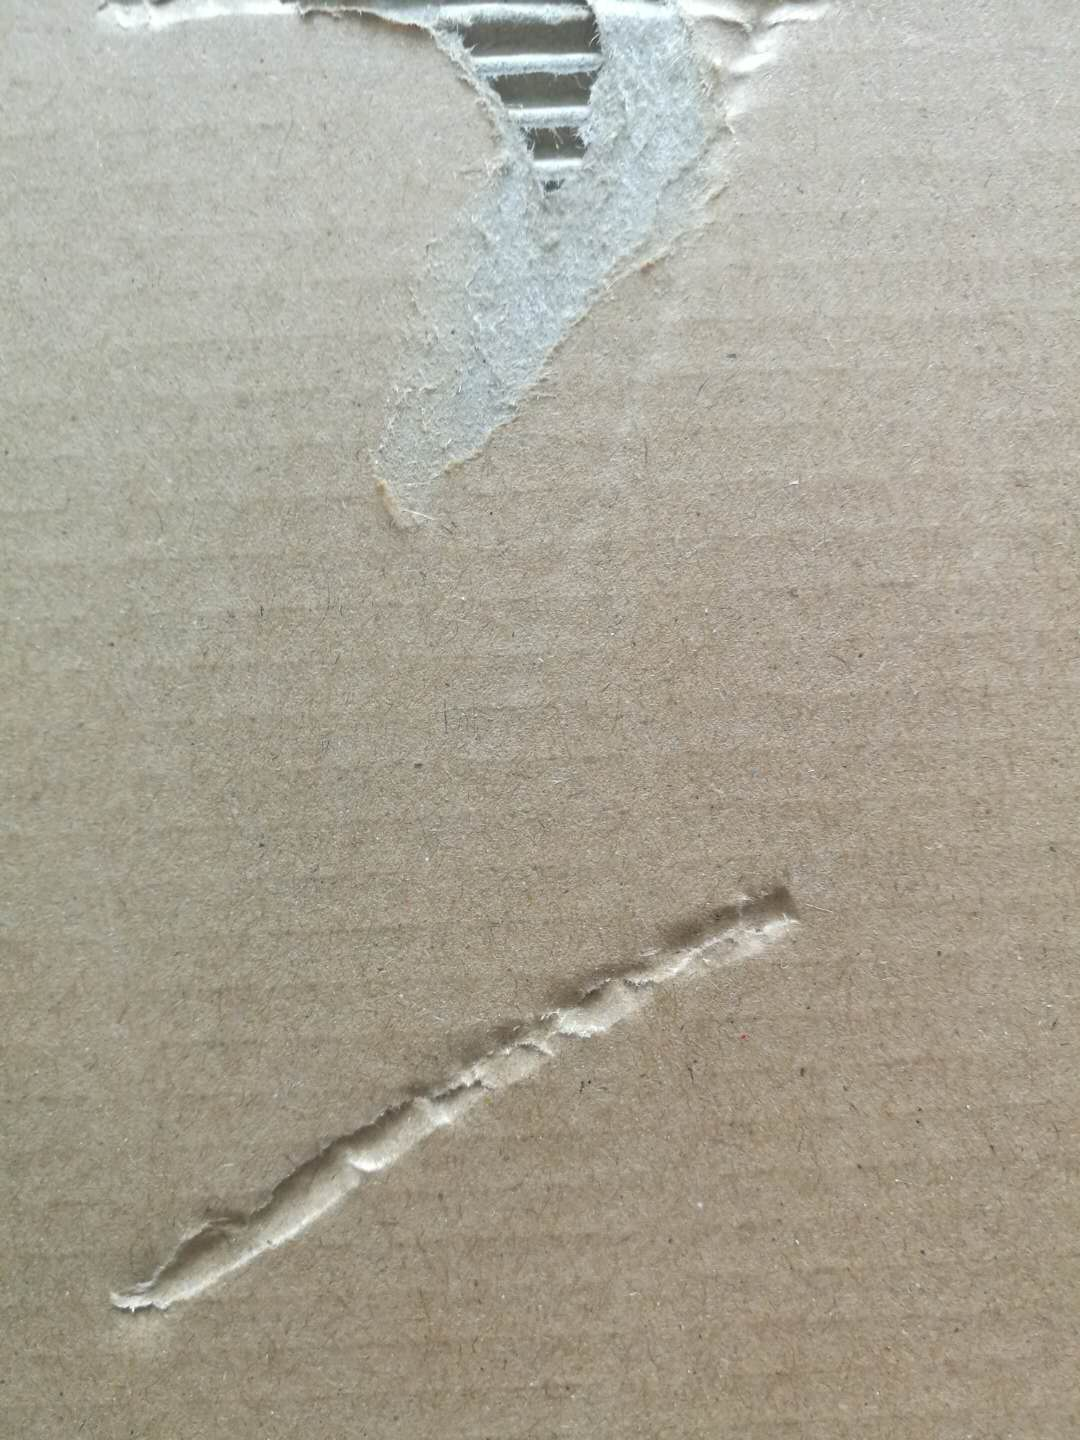defect: (71, 1, 879, 550), (71, 844, 864, 1344)
